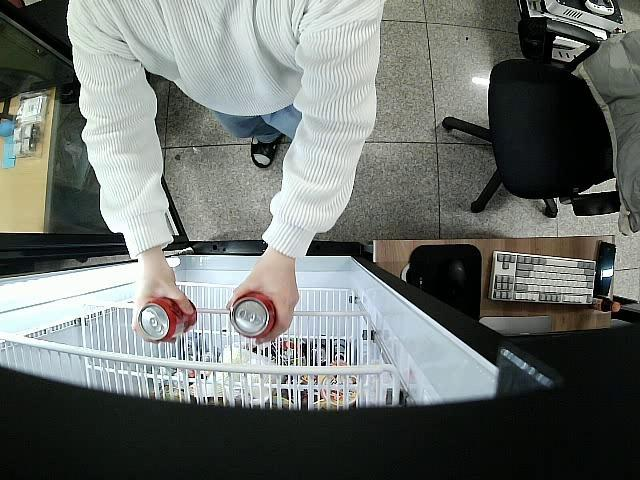11_cocaColaZero: (138, 296, 198, 342), (230, 289, 276, 340)
